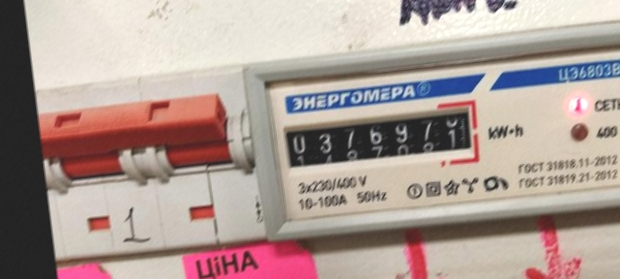0: (289, 131, 308, 154)
1: (446, 127, 459, 149)
3: (316, 130, 333, 155)
6: (368, 122, 383, 145)
7: (342, 124, 358, 150), (418, 117, 434, 141)
9: (393, 120, 408, 144)
screen: (276, 96, 485, 188)
